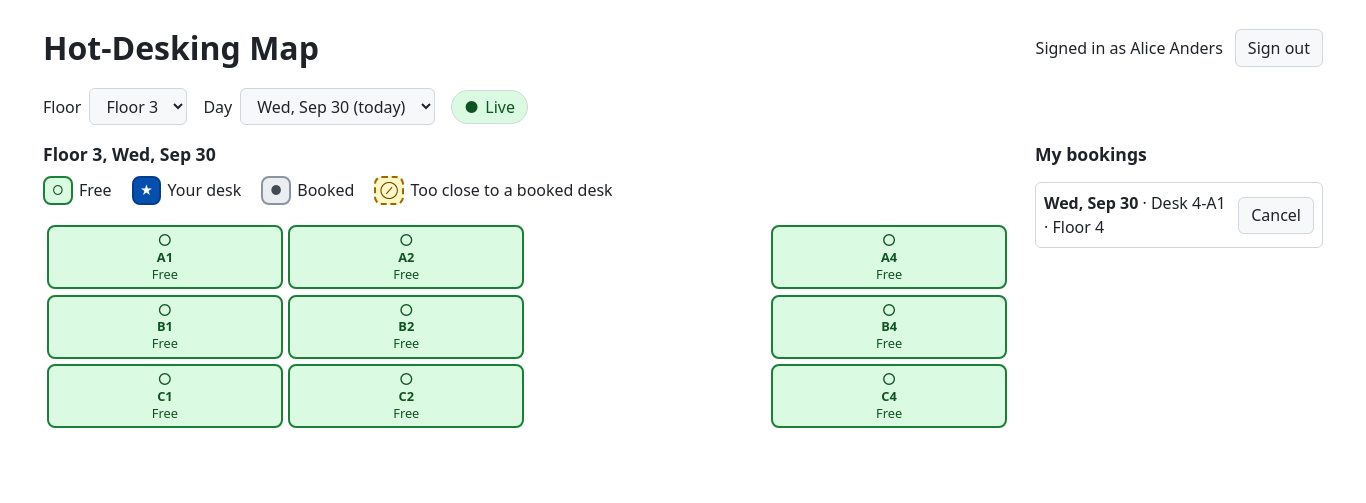
Test: my bookings › lists bookings and cancels one on another day
Click the button with aria-label "Cancel desk 4-A1".
click(1276, 215)  # box [1238,197,1314,234]
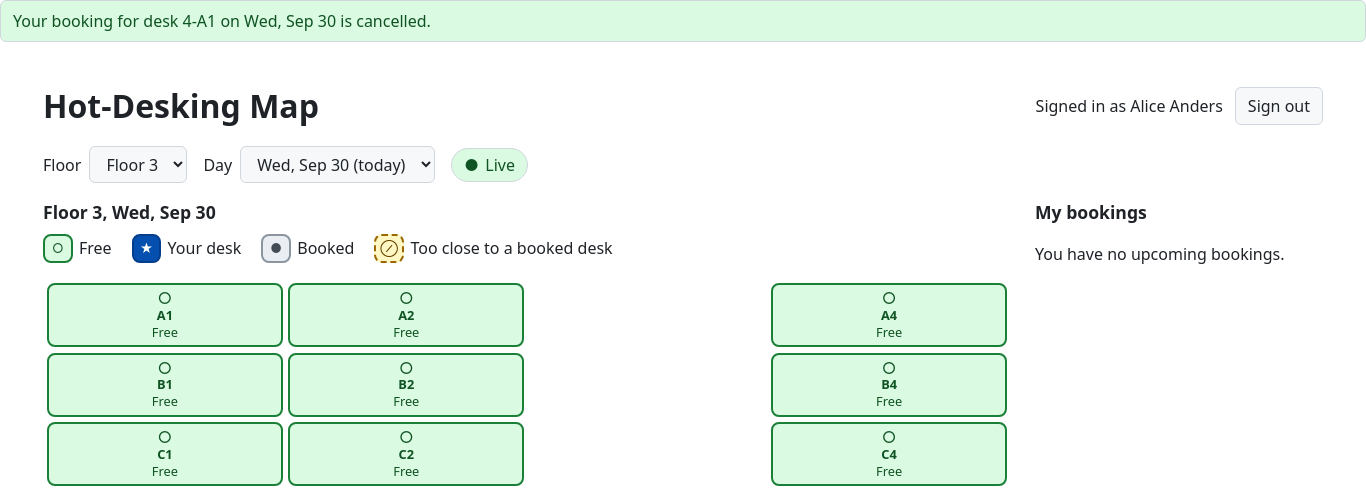
Result: the text "You have no upcoming bookings." is shown at [1035,242,1323,266]
Result: the message reads "Your booking for desk 4-A1 on Wed, Sep 30 is cancelled." at [13,10,431,32]
